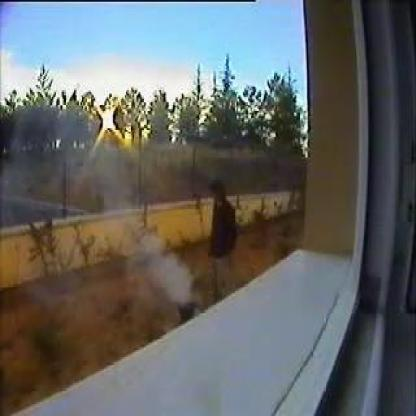-: (139, 244, 190, 300)
